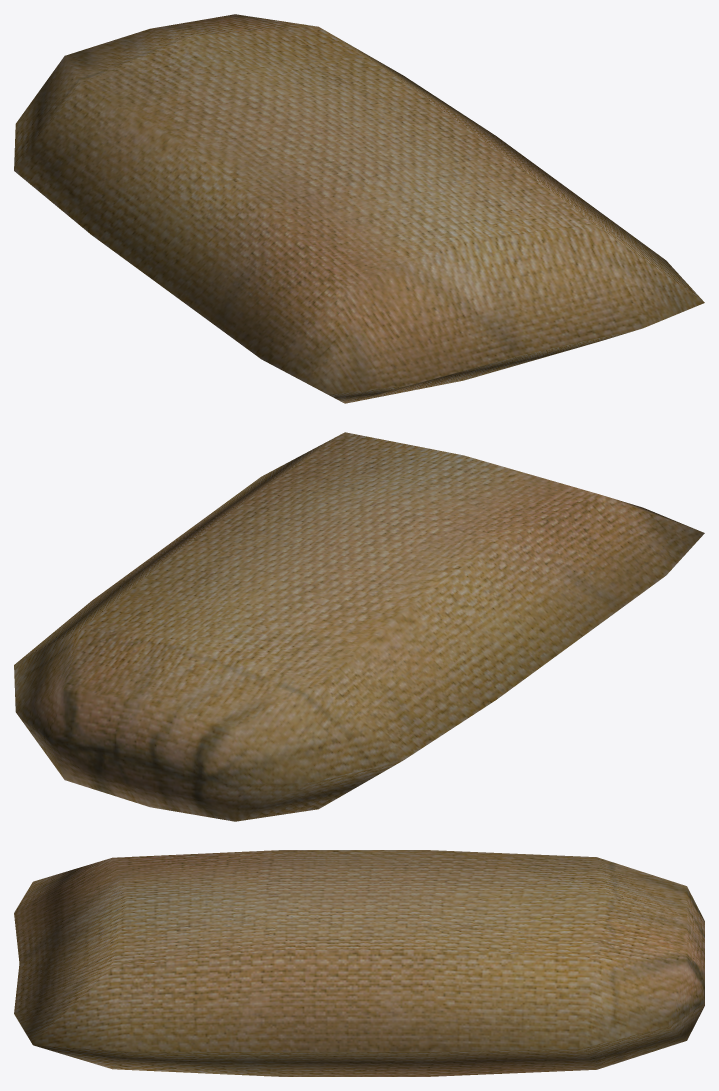
The model's file is MediumTank_Gear_Sandbag.FBX.
3 views of the same model, one above another, from view 1: azimuth 30°, elevation 25°; view 2: azimuth 150°, elevation 25°; view 3: azimuth 270°, elevation 25° (orthographic). The views are drawn at different scales.
Visible parts, largest first — view 1: MediumTank_Gear_Sandbag; view 2: MediumTank_Gear_Sandbag; view 3: MediumTank_Gear_Sandbag.
Boxes of the visible parts, left/top/right/bottom form: MediumTank_Gear_Sandbag: left=14, top=14, right=704, bottom=403; MediumTank_Gear_Sandbag: left=14, top=432, right=704, bottom=821; MediumTank_Gear_Sandbag: left=14, top=850, right=704, bottom=1076.
Size of the model in its own units: 0.3898 by 0.1486 by 0.6461.
